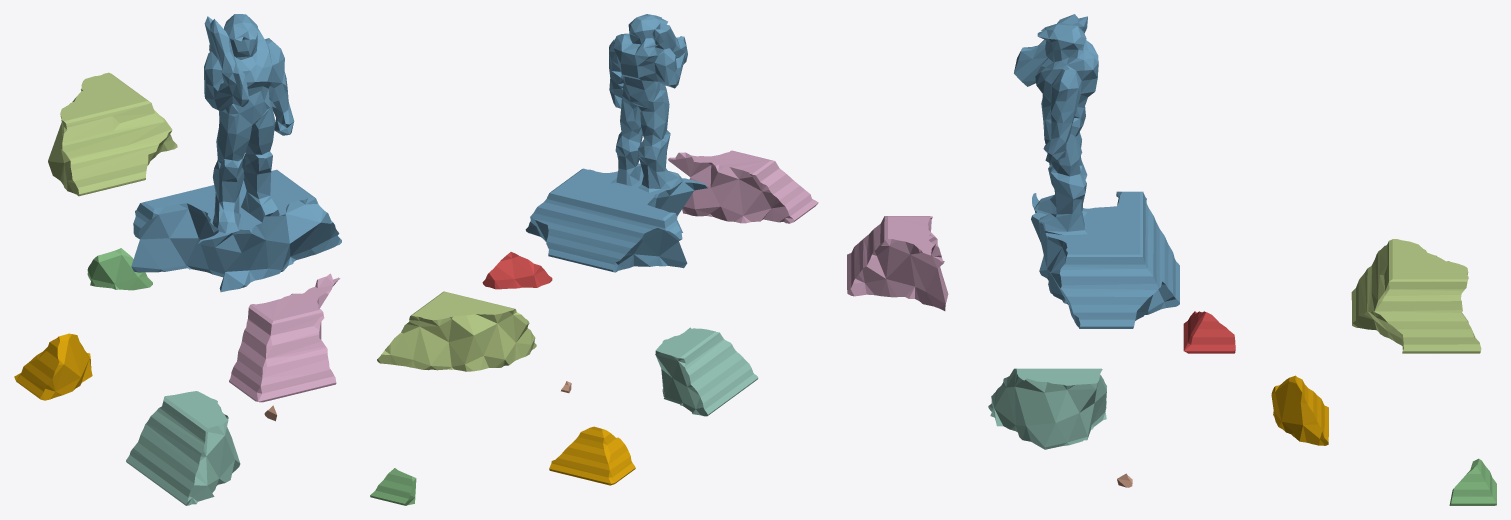
File: mode_9_8pcs_transformed.glb
The picture shows the model from 3 angles, left to right: view 1: azimuth 30°, elevation 25°; view 2: azimuth 150°, elevation 25°; view 3: azimuth 270°, elevation 25°; orthographic projection. The views are drawn at different scales.
Parts seen in each view (by area): view 1: piece_2.obj, piece_5.obj, piece_6.obj, piece_4.obj, piece_0.obj, piece_3.obj; view 2: piece_2.obj, piece_5.obj, piece_6.obj, piece_4.obj, piece_0.obj, piece_1.obj, piece_3.obj; view 3: piece_2.obj, piece_5.obj, piece_4.obj, piece_6.obj, piece_0.obj, piece_1.obj, piece_3.obj.
Part boxes in pixels (x1,y1,x2,y2): piece_2.obj: (131, 14, 341, 292); piece_5.obj: (48, 72, 177, 196); piece_6.obj: (229, 273, 340, 402); piece_4.obj: (126, 391, 240, 505); piece_0.obj: (14, 333, 92, 400); piece_3.obj: (87, 248, 152, 290); piece_2.obj: (525, 14, 707, 272); piece_5.obj: (377, 291, 536, 371); piece_6.obj: (668, 150, 818, 223); piece_4.obj: (655, 327, 758, 416); piece_0.obj: (549, 426, 635, 485); piece_1.obj: (482, 252, 552, 289); piece_3.obj: (370, 468, 416, 505); piece_2.obj: (1014, 14, 1179, 328); piece_5.obj: (1351, 239, 1481, 353); piece_4.obj: (988, 368, 1106, 449); piece_6.obj: (847, 216, 948, 310); piece_0.obj: (1271, 375, 1328, 445); piece_1.obj: (1183, 311, 1235, 353); piece_3.obj: (1449, 458, 1496, 505).
Bounding box in the file's own units: 0.8193 × 1.7 × 2.32.
